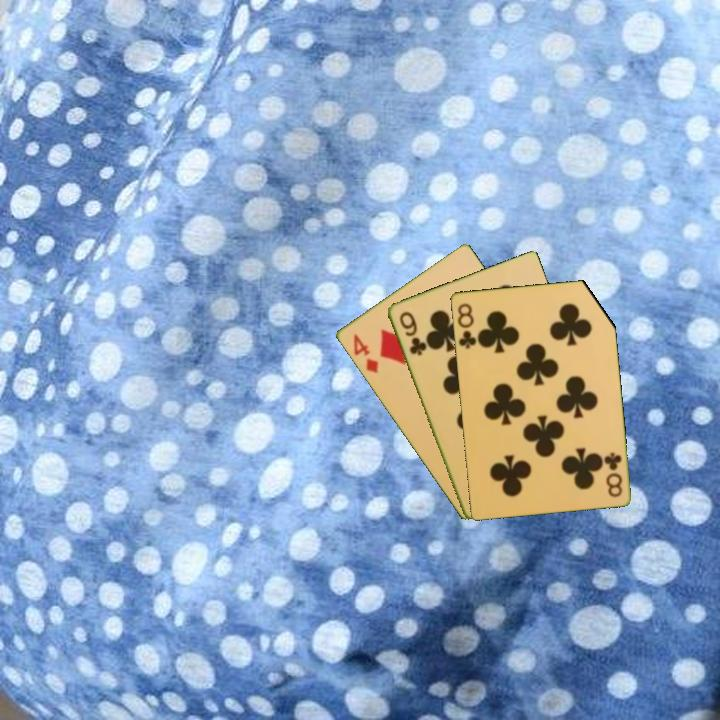4d: (349, 330, 381, 376)
8c: (454, 299, 479, 352), (601, 448, 625, 500)
9c: (395, 308, 428, 358)
